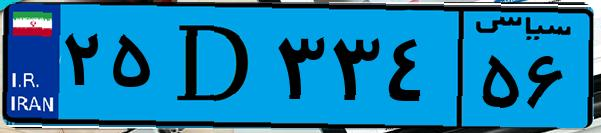2: (57, 26, 110, 100)
3: (270, 28, 330, 110), (330, 28, 385, 110)
4: (385, 28, 445, 110)
5: (475, 38, 525, 113), (110, 28, 158, 98)
6: (525, 38, 570, 115)
D: (158, 12, 270, 120)
